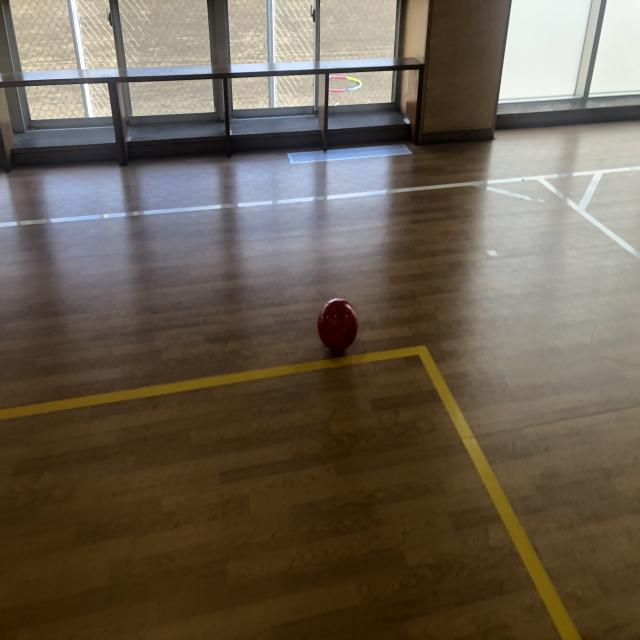red_ball: (318, 298, 358, 354)
